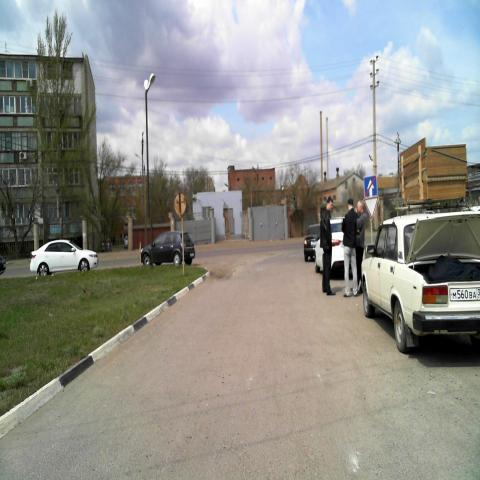5_6: (363, 176, 377, 196)
